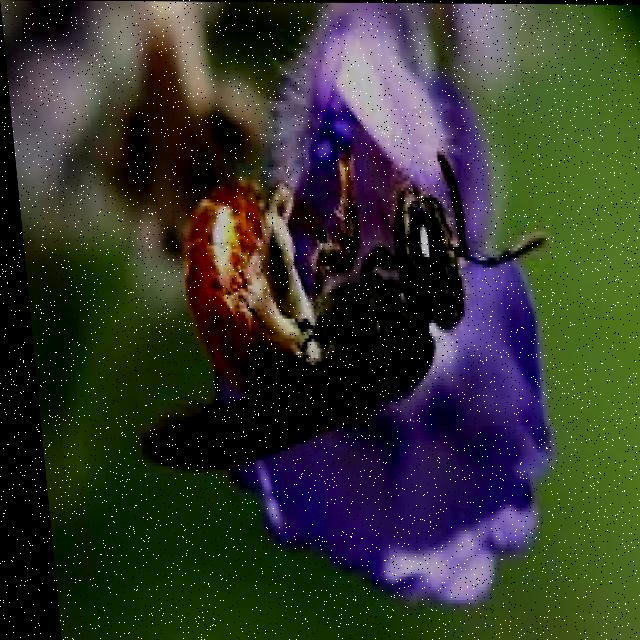Lasioglossum: (106, 126, 531, 513)
